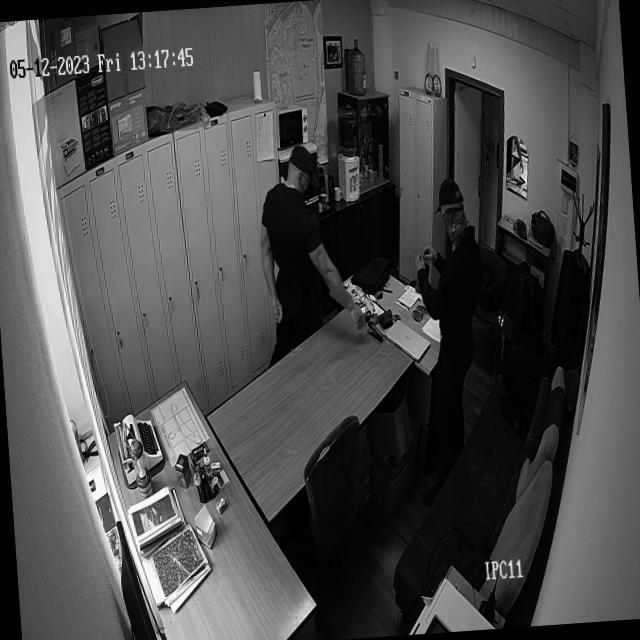person: (398, 173, 501, 508), (253, 138, 369, 368)
